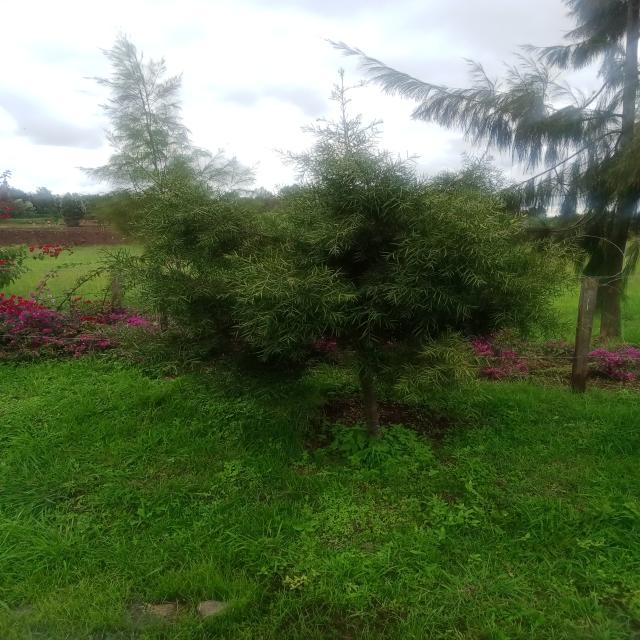Podocarpus falcatus: (148, 74, 534, 460)
